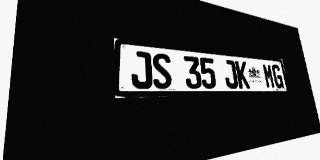3: (183, 56, 202, 89)
5: (199, 57, 217, 89)
G: (271, 64, 284, 88)
J: (130, 50, 153, 89), (222, 59, 239, 89)
K: (235, 61, 250, 88)
M: (262, 63, 276, 88)
S: (151, 52, 173, 89)
